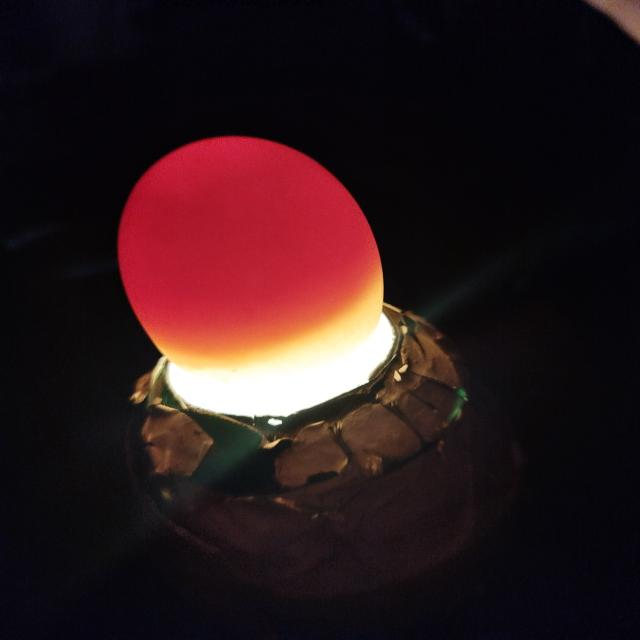Gema Quebrada: (117, 137, 365, 333)
